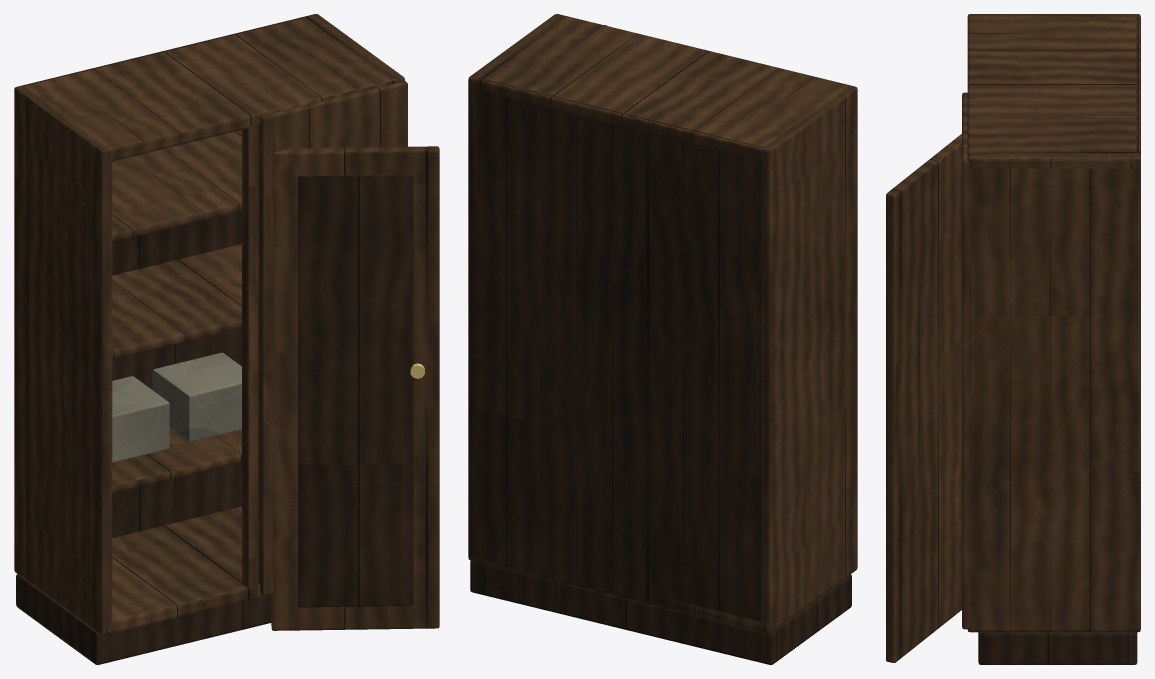
The model's file is cabinet_wood.glb.
3 views of the same model, side by side, from view 1: azimuth 30°, elevation 25°; view 2: azimuth 150°, elevation 25°; view 3: azimuth 270°, elevation 25° (orthographic). The views are drawn at different scales.
Visible parts, largest first — view 1: body, door; view 2: body; view 3: body, door.
Boxes of the visible parts, box(x1,y1,x2,y2) form: body: box(14, 14, 407, 664); door: box(271, 146, 439, 630); body: box(468, 14, 857, 664); body: box(962, 14, 1140, 664); door: box(886, 134, 961, 662).
Bounding box in the file's own units: 0.95 × 1.55 × 0.7056.
4 materials, 3 textured.
